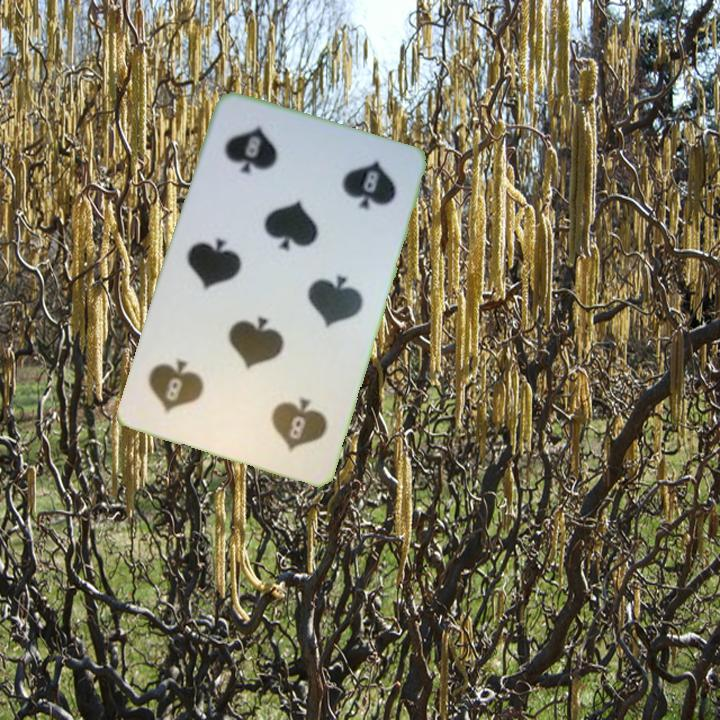s_8.png: (223, 360, 343, 470), (203, 107, 322, 217)
